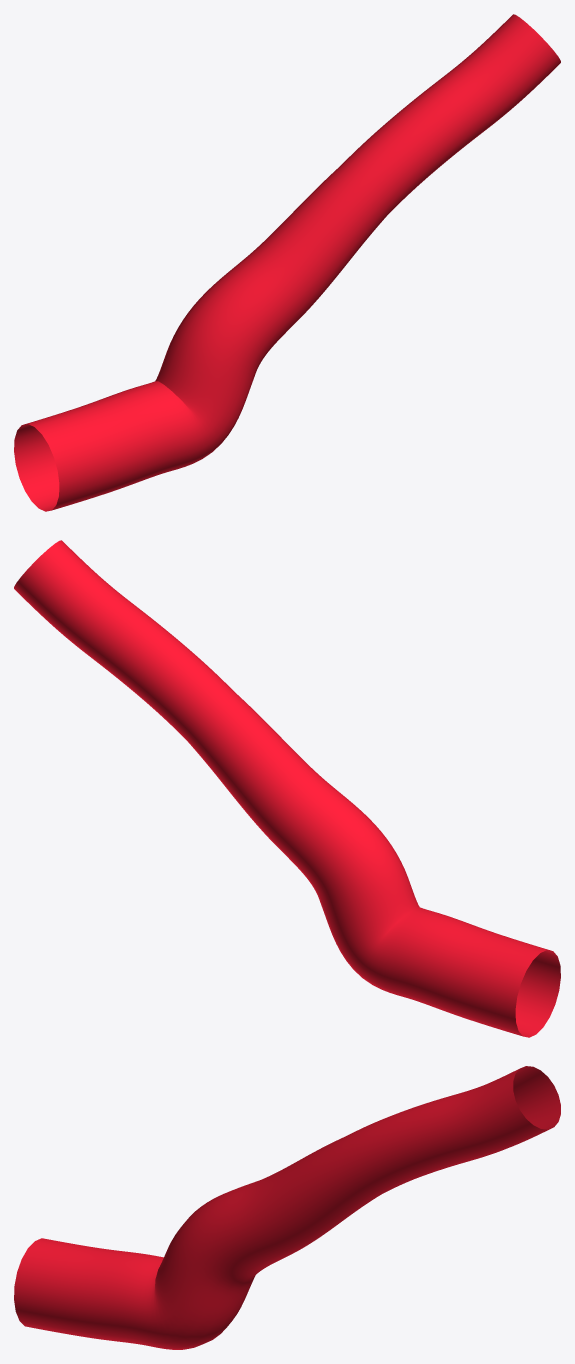
File: vesselkid1.obj
3 renders of one model, top to bottom at view 1: azimuth 30°, elevation 25°; view 2: azimuth 150°, elevation 25°; view 3: azimuth 330°, elevation 25°, orthographic.
Visible parts, largest first — view 1: grp1; view 2: grp1; view 3: grp1.
Boxes of the visible parts, x1,y1,x2,y2 form: grp1: (14, 14, 560, 511); grp1: (14, 540, 560, 1037); grp1: (14, 1066, 560, 1349).
Size of the model in its own units: 264 by 181 by 40.
